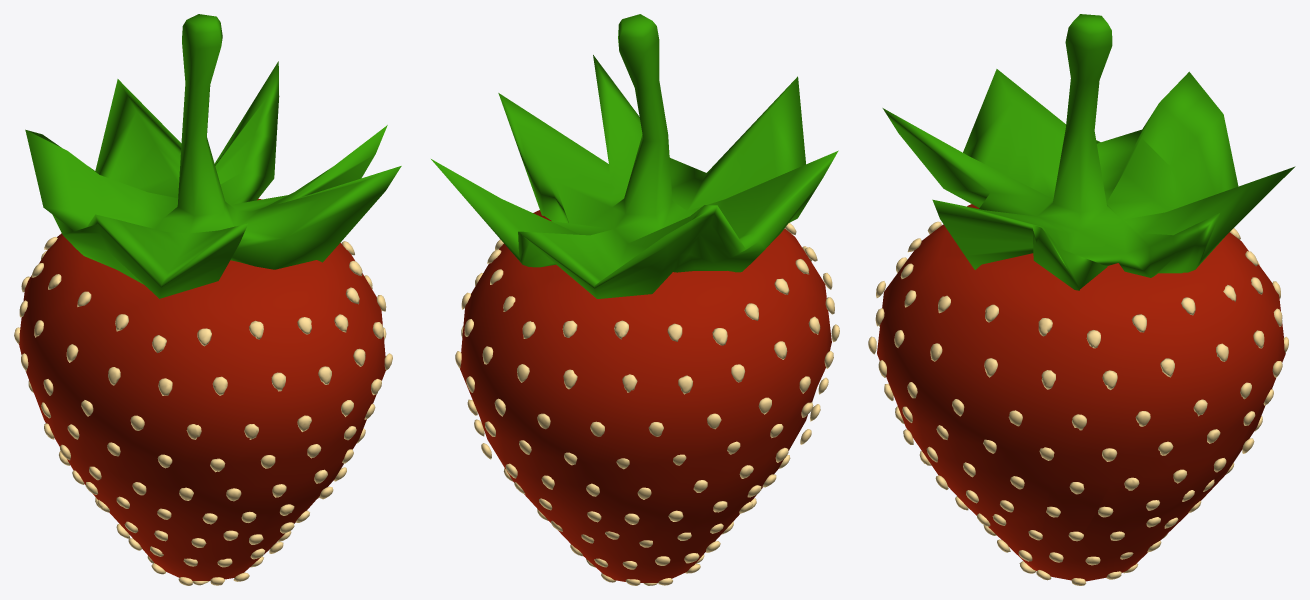
File: strawberry.fbx
3 renders of one model, left to right at view 1: azimuth 30°, elevation 25°; view 2: azimuth 150°, elevation 25°; view 3: azimuth 270°, elevation 25°, orthographic.
Parts seen in each view (by area): view 1: strawberry; view 2: strawberry; view 3: strawberry.
Boxes of the visible parts, left/top/right/bottom form: strawberry: left=14, top=14, right=401, bottom=585; strawberry: left=431, top=14, right=839, bottom=585; strawberry: left=868, top=14, right=1295, bottom=585.
Size of the model in its own units: 220 by 361 by 247.
